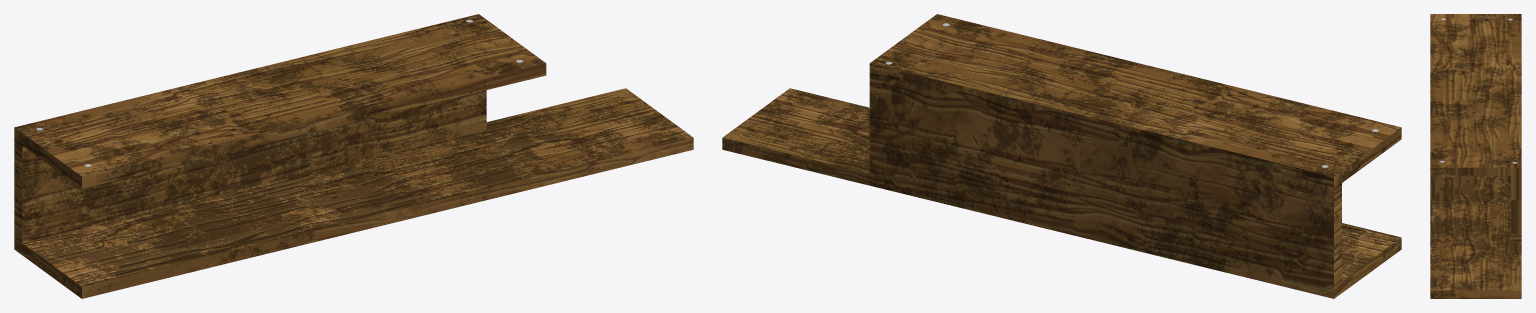
The model's file is shelf - large.fbx.
3 views of the same model, side by side, from view 1: azimuth 30°, elevation 25°; view 2: azimuth 150°, elevation 25°; view 3: azimuth 270°, elevation 25° (orthographic). The views are drawn at different scales.
Visible parts, largest first — view 1: Cube.008; view 2: Cube.008; view 3: Cube.008.
Boxes of the visible parts, x1,y1,x2,y2 form: Cube.008: (14, 14, 693, 298); Cube.008: (722, 14, 1401, 298); Cube.008: (1430, 14, 1521, 298).
Bounding box in the file's own units: 1047 × 200 × 200.
Materials: 1 (1 with a texture image).
